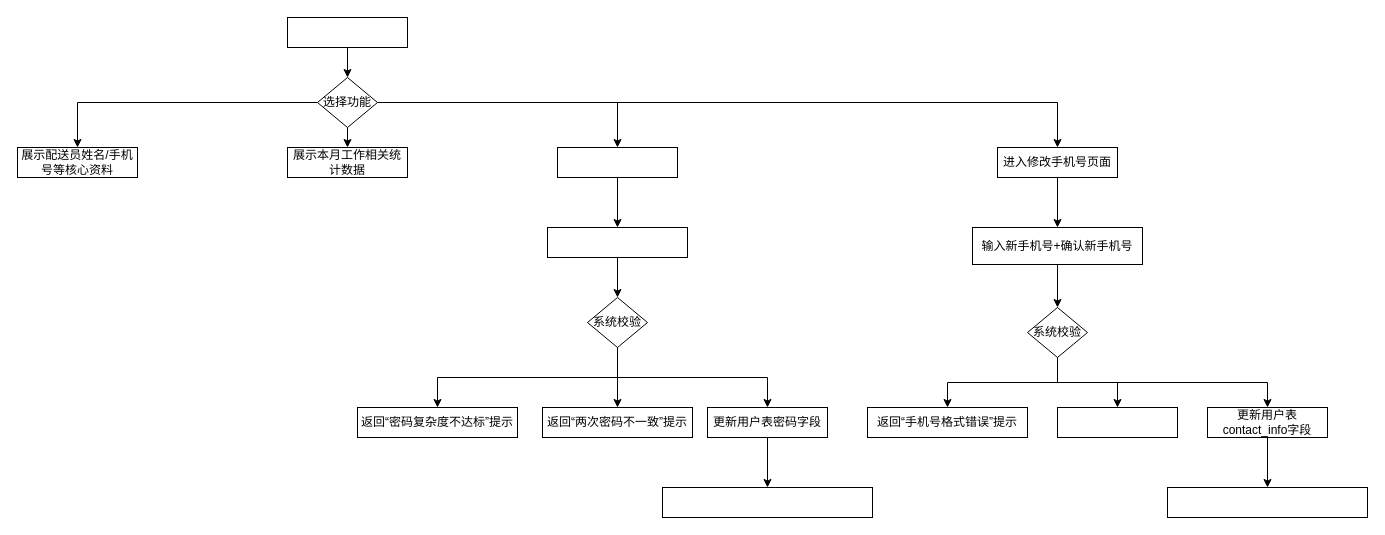
This 1385x535 diagram has some shape labels left out. The centre of each missing label's shape, as x and y in pixels:
个人信息管理模块: point 347,32
输入新密码+确认新密码: point 617,242
返回“两次手机号不一致”提示: point 1117,422
返回“密码更新成功”提示+展示更新后: point 767,502
返回“联系方式更新成功”提示+刷新页: point 1267,502
进入修改密码页面: point 617,162
